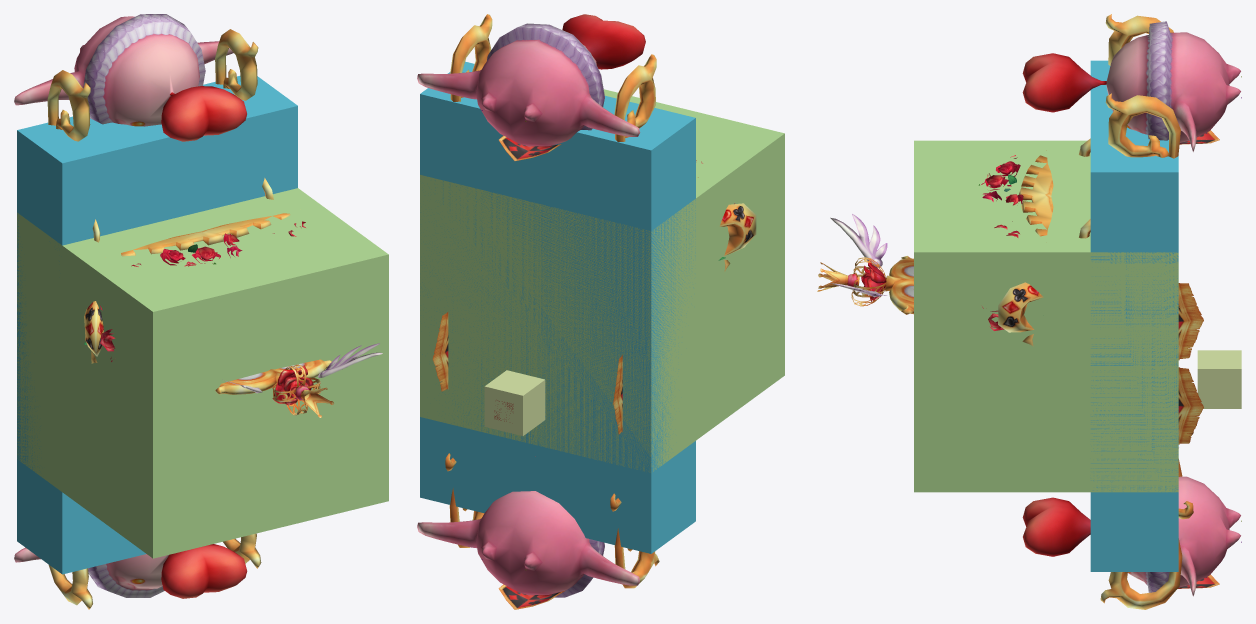
3 views of the same model, side by side, from view 1: azimuth 30°, elevation 25°; view 2: azimuth 150°, elevation 25°; view 3: azimuth 270°, elevation 25° (orthographic). The views are drawn at different scales.
Visible parts, largest first — view 1: Box, Box@#0, R050, R05051; view 2: Box, Box@#0, R050, R05051, Box@#6; view 3: Box, R050, Box@#0, R05051, Box@#6.
Part boxes in pixels (box(x1,y1,x2,y2)): Box: box(17, 188, 388, 558); Box@#0: box(17, 76, 297, 574); R050: box(14, 29, 382, 609); R05051: box(14, 14, 246, 141); Box: box(420, 89, 784, 472); Box@#0: box(420, 61, 695, 553); R050: box(417, 14, 756, 609); R05051: box(417, 14, 645, 160); Box@#6: box(484, 370, 545, 435); Box: box(914, 140, 1178, 492); R050: box(817, 14, 1240, 609); Box@#0: box(1090, 60, 1178, 571); R05051: box(1022, 21, 1240, 151); Box@#6: box(1197, 350, 1241, 408).
Bounding box in the file's own units: 3.36 × 7.05 × 4.86.
